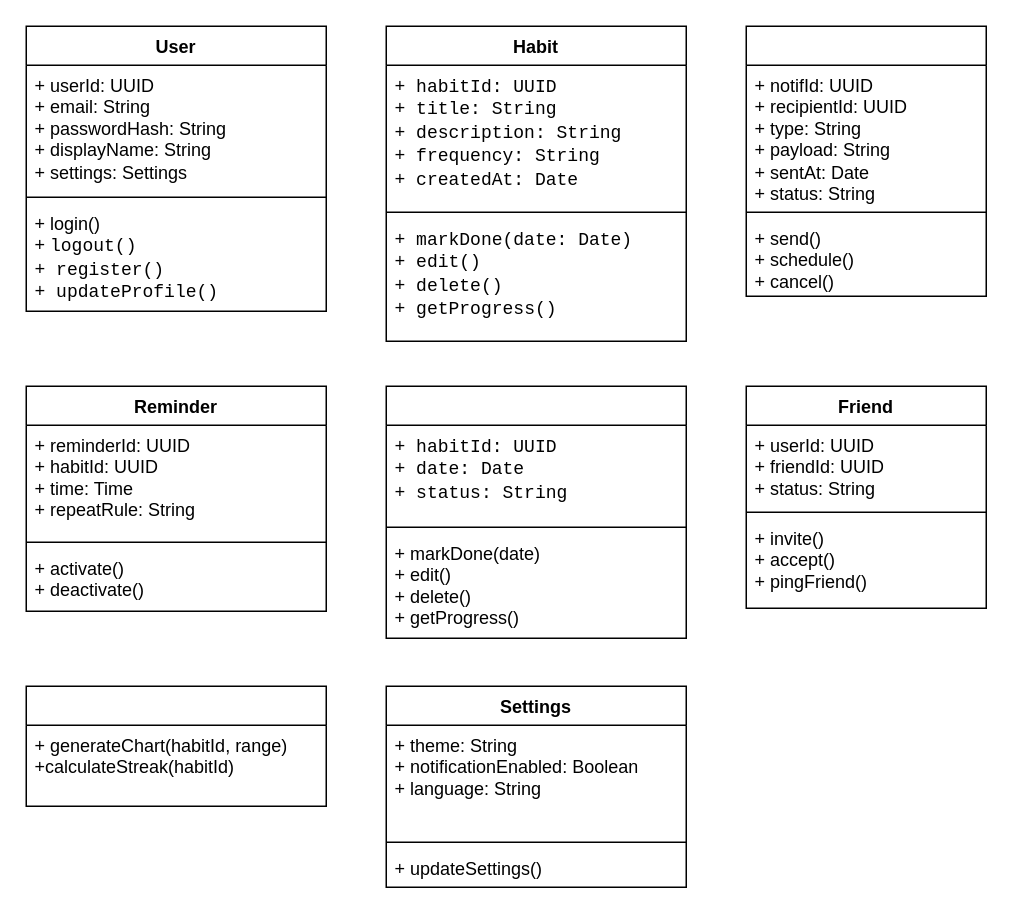
This 1013x918 diagram has some shape labels left out. The box of each missing label's shape, as (x1, y1, x2, y2) in pixels:
HabitExecution: (385, 385, 686, 638)
Notification: (745, 25, 986, 296)
Raport: (25, 685, 326, 806)
